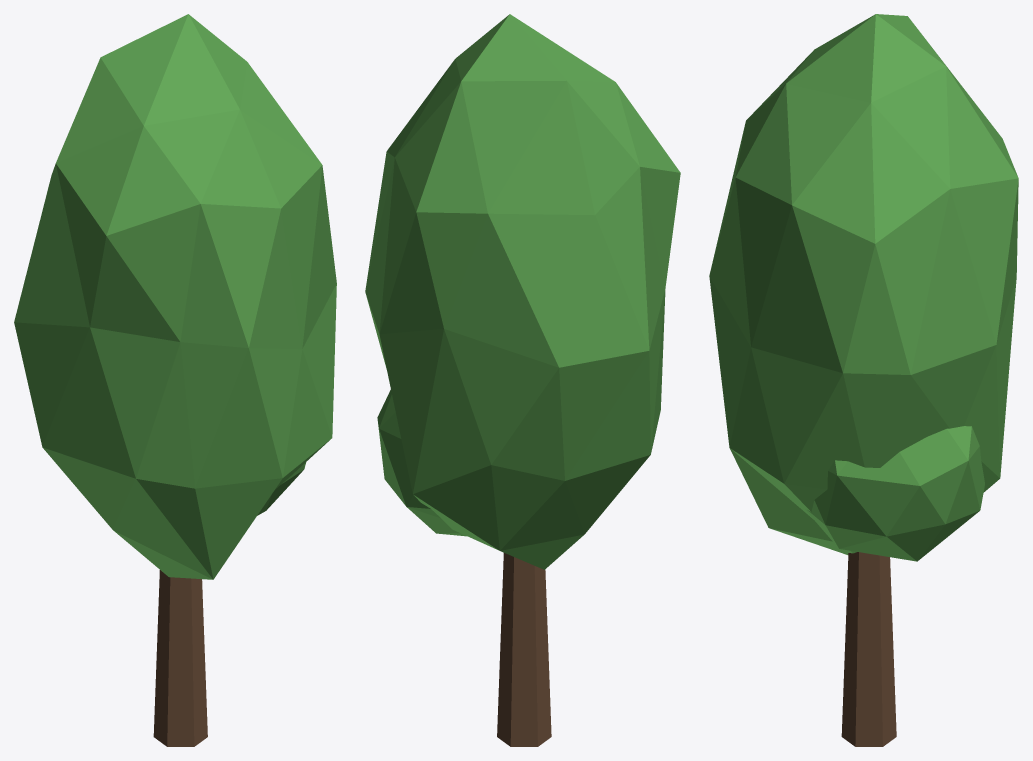
The model's file is TreeTall.fbx.
The picture shows the model from 3 angles, left to right: view 1: azimuth 30°, elevation 25°; view 2: azimuth 150°, elevation 25°; view 3: azimuth 270°, elevation 25°; orthographic projection.
Parts seen in each view (by area): view 1: TreeTall_Leaves, TreeTall_Trunk; view 2: TreeTall_Leaves, TreeTall_Trunk; view 3: TreeTall_Leaves, TreeTall_Trunk.
Boxes of the visible parts, x1,y1,x2,y2 form: TreeTall_Leaves: (14,14,336,579); TreeTall_Trunk: (153,570,207,746); TreeTall_Leaves: (365,14,680,569); TreeTall_Trunk: (497,553,551,746); TreeTall_Leaves: (709,14,1018,561); TreeTall_Trunk: (841,552,896,746).
Bounding box in the file's own units: 11.07 × 26.3 × 10.12.
